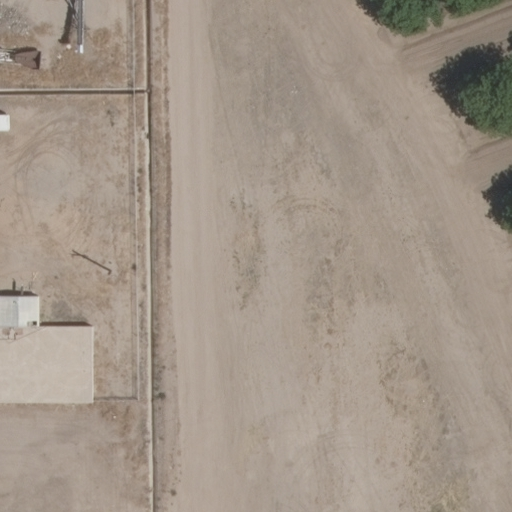DT: (97, 265, 118, 279)
